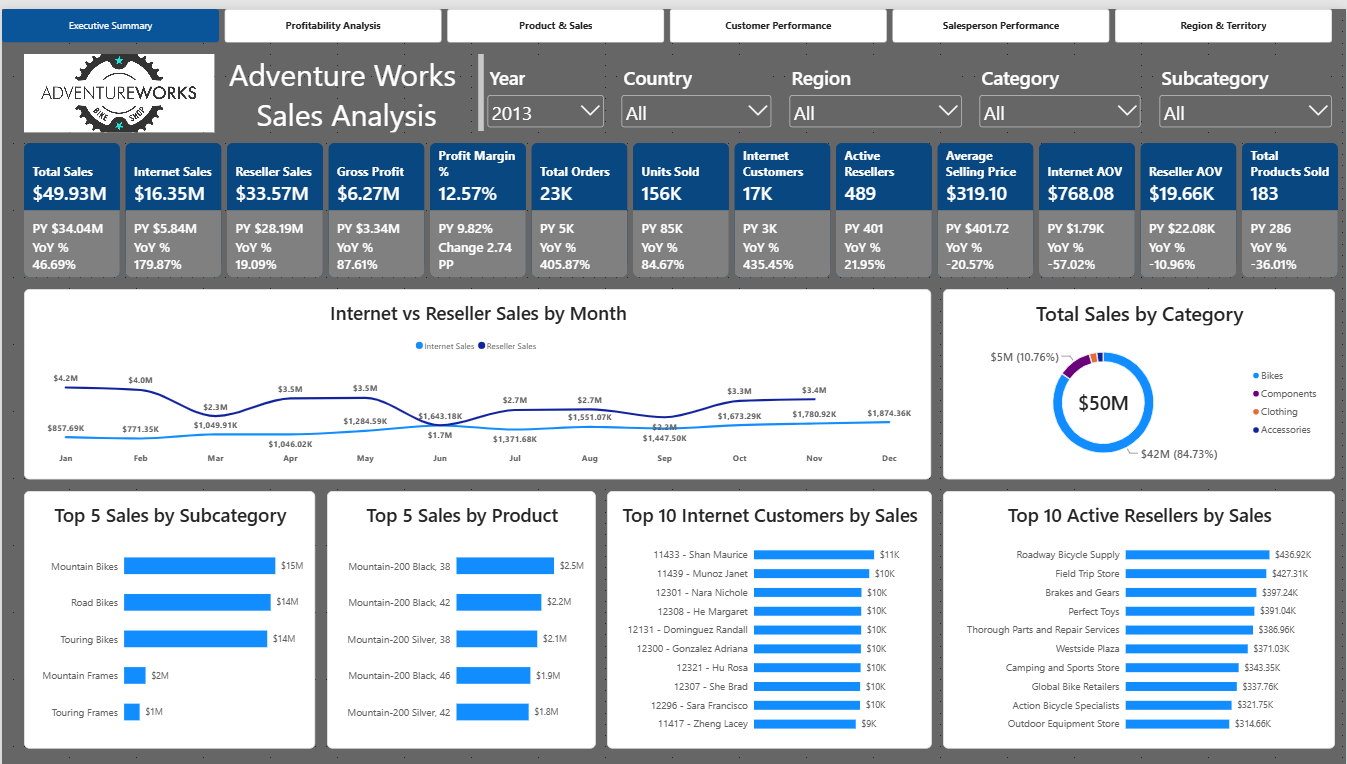

The dashboard page shown, as its layout file describes it:
{"tool":"powerbi","page":{"name":"Executive Summary","canvas":[1920,1080],"ordinal":0},"visuals":[{"type":"textbox","box":[304,64,384,112],"z":0},{"type":"image","box":[32,64,272,112],"z":1000},{"type":"cardVisual","fields":{"Data":["_Measures.Combined Sales","_Measures.Internet Sales","_Measures.Reseller Sales","_Measures.Combined Gross Profit","_Measures.Combined Profit Margin %","_Measures.Combined Orders","_Measures.Combined Units Sold","_Measures.Internet Customers","_Measures.Active Resellers","_Measures.Combined Average Selling Price","_Measures.Internet AOV","_Measures.Reseller AOV"]},"box":[32,192,1888,192],"z":2000},{"type":"lineChart","title":"Internet vs Reseller Sales by Month","fields":{"Category":["DimDate.Short Month Name"],"Y":["_Measures.Internet Sales","_Measures.Reseller Sales"]},"box":[32,400,1296,272],"z":3000},{"type":"donutChart","title":"Total Sales by Category","fields":{"Category":["DimProductCategory.EnglishProductCategoryName"],"Y":["_Measures.Combined Sales"]},"box":[1344,400,560,272],"z":4000},{"type":"slicer","fields":{"Values":["DimDate.CalendarYear"]},"box":[688,80,176,96],"z":5000},{"type":"clusteredBarChart","title":"Top 5 Sales by Subcategory","fields":{"Category":["DimProductSubcategory.EnglishProductSubcategoryName"],"Y":["_Measures.Combined Sales"]},"box":[32,688,416,368],"z":6000},{"type":"clusteredBarChart","title":"Top 5 Sales by Product","fields":{"Category":["DimProduct.EnglishProductName"],"Y":["_Measures.Combined Sales"]},"box":[464,688,384,368],"z":7000},{"type":"slicer","fields":{"Values":["DimSalesTerritory.SalesTerritoryRegion"]},"box":[1120,80,256,96],"z":8000},{"type":"slicer","fields":{"Values":["DimProductCategory.EnglishProductCategoryName"]},"box":[1392,80,240,96],"z":9000},{"type":"slicer","fields":{"Values":["DimProductSubcategory.EnglishProductSubcategoryName"]},"box":[1648,80,256,96],"z":10000},{"type":"slicer","fields":{"Values":["DimSalesTerritory.SalesTerritoryCountry"]},"box":[880,80,224,96],"z":11000},{"type":"clusteredBarChart","title":"Top 10 Internet Customers by Sales","fields":{"Category":["DimCustomer.Customer Name"],"Y":["_Measures.Internet Sales"]},"box":[864,688,464,368],"z":12000},{"type":"clusteredBarChart","title":"Top 10 Active Resellers by Sales","fields":{"Category":["DimReseller.ResellerName"],"Y":["_Measures.Reseller Sales"]},"box":[1344,688,560,368],"z":13000},{"type":"pageNavigator","box":[0,0,1904,48],"z":14000}]}

Visuals, with their boxes in screenshot pixels (x1, y1, x2, y2), scaled from the page's 1920x1080 canvas onto the 1347x764 screenshot:
textbox: {"x1": 213, "y1": 45, "x2": 483, "y2": 125}
image: {"x1": 22, "y1": 45, "x2": 213, "y2": 125}
cardVisual - _Measures.Combined Sales x _Measures.Internet Sales: {"x1": 22, "y1": 136, "x2": 1346, "y2": 272}
"Internet vs Reseller Sales by Month" lineChart: {"x1": 22, "y1": 283, "x2": 932, "y2": 475}
"Total Sales by Category" donutChart: {"x1": 943, "y1": 283, "x2": 1336, "y2": 475}
slicer - DimDate.CalendarYear: {"x1": 483, "y1": 57, "x2": 606, "y2": 125}
"Top 5 Sales by Subcategory" clusteredBarChart: {"x1": 22, "y1": 487, "x2": 314, "y2": 747}
"Top 5 Sales by Product" clusteredBarChart: {"x1": 326, "y1": 487, "x2": 595, "y2": 747}
slicer - DimSalesTerritory.SalesTerritoryRegion: {"x1": 786, "y1": 57, "x2": 965, "y2": 125}
slicer - DimProductCategory.EnglishProductCategoryName: {"x1": 977, "y1": 57, "x2": 1145, "y2": 125}
slicer - DimProductSubcategory.EnglishProductSubcategoryName: {"x1": 1156, "y1": 57, "x2": 1336, "y2": 125}
slicer - DimSalesTerritory.SalesTerritoryCountry: {"x1": 617, "y1": 57, "x2": 775, "y2": 125}
"Top 10 Internet Customers by Sales" clusteredBarChart: {"x1": 606, "y1": 487, "x2": 932, "y2": 747}
"Top 10 Active Resellers by Sales" clusteredBarChart: {"x1": 943, "y1": 487, "x2": 1336, "y2": 747}
pageNavigator: {"x1": 0, "y1": 0, "x2": 1336, "y2": 34}
